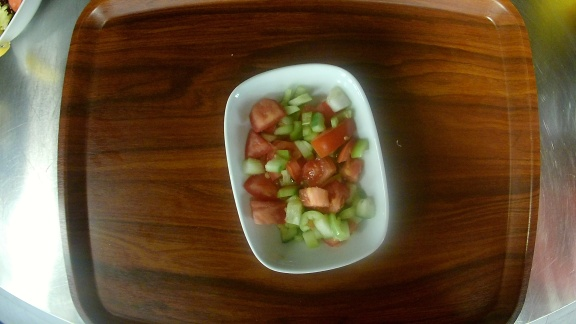cobansalata: (223, 63, 391, 271)
